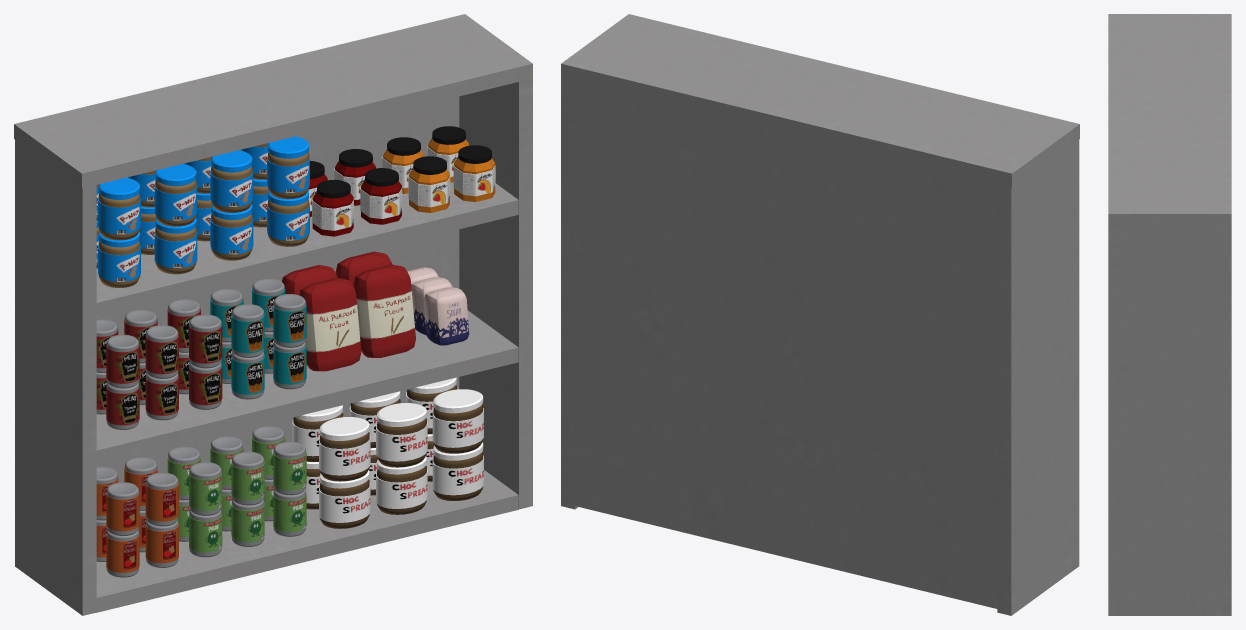
Rendered from shelf.fbx.
3 views of the same model, side by side, from view 1: azimuth 30°, elevation 25°; view 2: azimuth 150°, elevation 25°; view 3: azimuth 270°, elevation 25° (orthographic). The views are drawn at different scales.
Parts seen in each view (by area): view 1: Ground_shelf; view 2: Ground_shelf; view 3: Ground_shelf.
Boxes of the visible parts, x1,y1,x2,y2 form: Ground_shelf: [14, 14, 532, 615]; Ground_shelf: [561, 14, 1079, 615]; Ground_shelf: [1108, 14, 1231, 615].
Bounding box in the file's own units: 1.92 × 1.8 × 0.5001.
18 materials, 18 textured.
